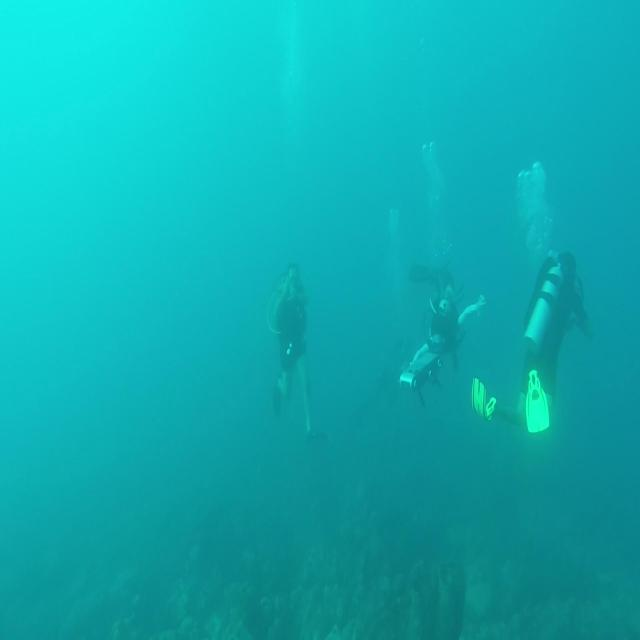human: (472, 247, 592, 435), (399, 262, 486, 406), (266, 260, 325, 443)
